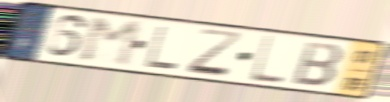6: (47, 13, 89, 61)
B: (289, 39, 346, 89)
L: (247, 33, 285, 86), (143, 24, 181, 72)
M: (77, 16, 145, 69)
Z: (184, 27, 247, 80)
